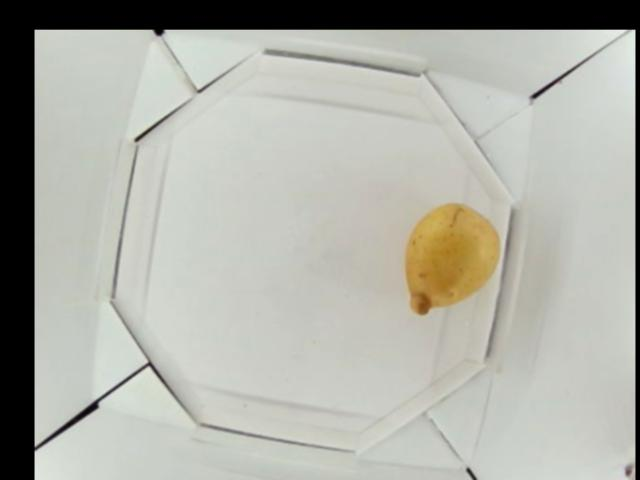Potato: (403, 202, 499, 316)
